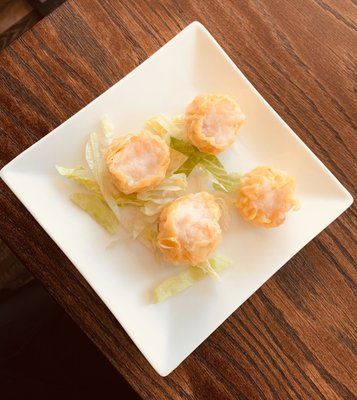curry: (1, 7, 357, 396)
